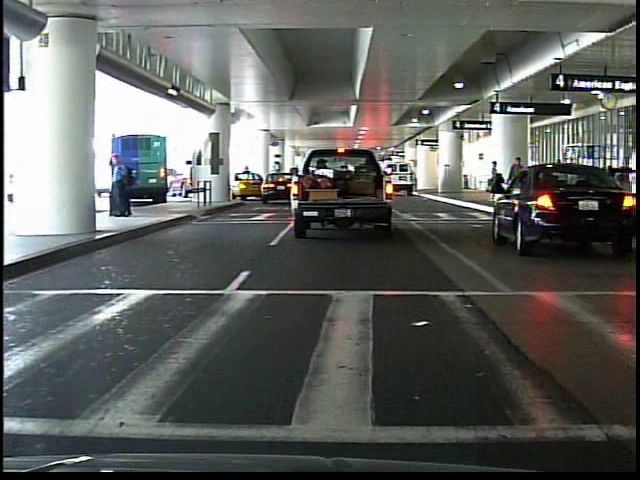person: (108, 151, 136, 222), (486, 155, 513, 210), (507, 153, 527, 208)
